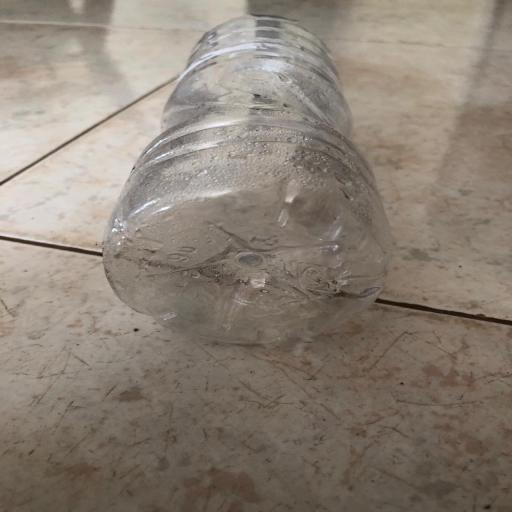waste: (76, 4, 416, 356)
